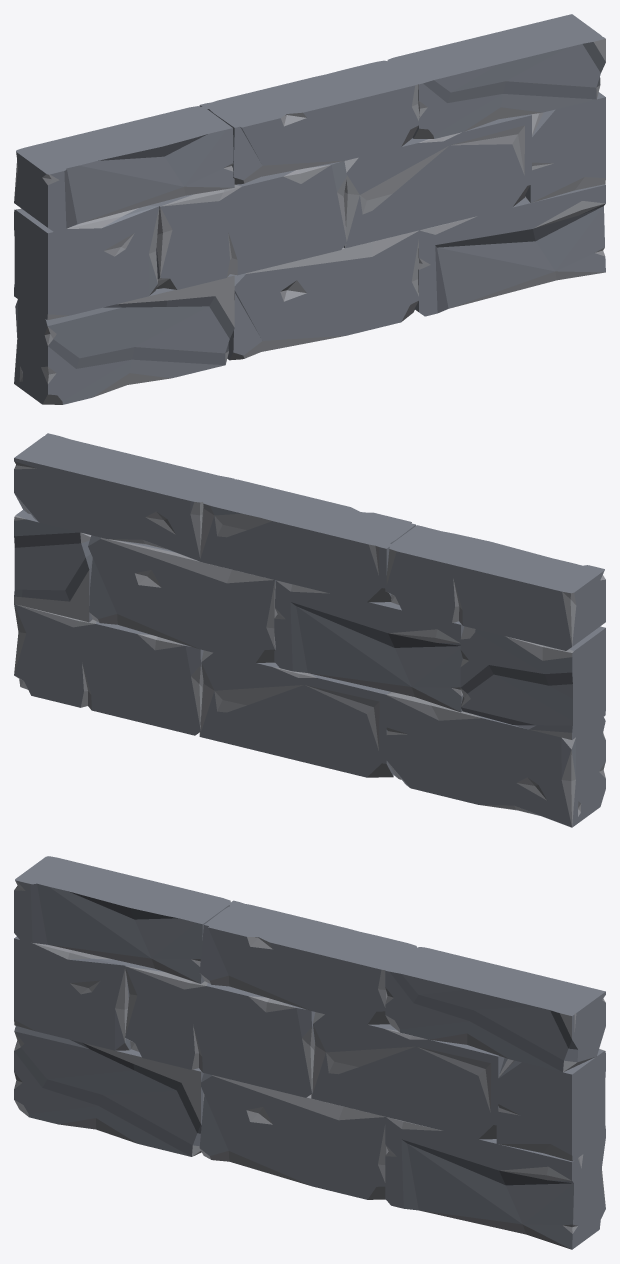
Rendered from mesh_stone_wall_half.fbx.
The picture shows the model from 3 angles, top to bottom: view 1: azimuth 30°, elevation 25°; view 2: azimuth 150°, elevation 25°; view 3: azimuth 330°, elevation 25°; orthographic projection.
Visible parts, largest first — view 1: mesh_stone_wall_half; view 2: mesh_stone_wall_half; view 3: mesh_stone_wall_half.
Part boxes in pixels (x1,y1,x2,y2): mesh_stone_wall_half: (14,14,605,404); mesh_stone_wall_half: (14,433,605,827); mesh_stone_wall_half: (14,856,605,1249).
Size of the model in its own units: 2 by 0.8 by 0.2139.
